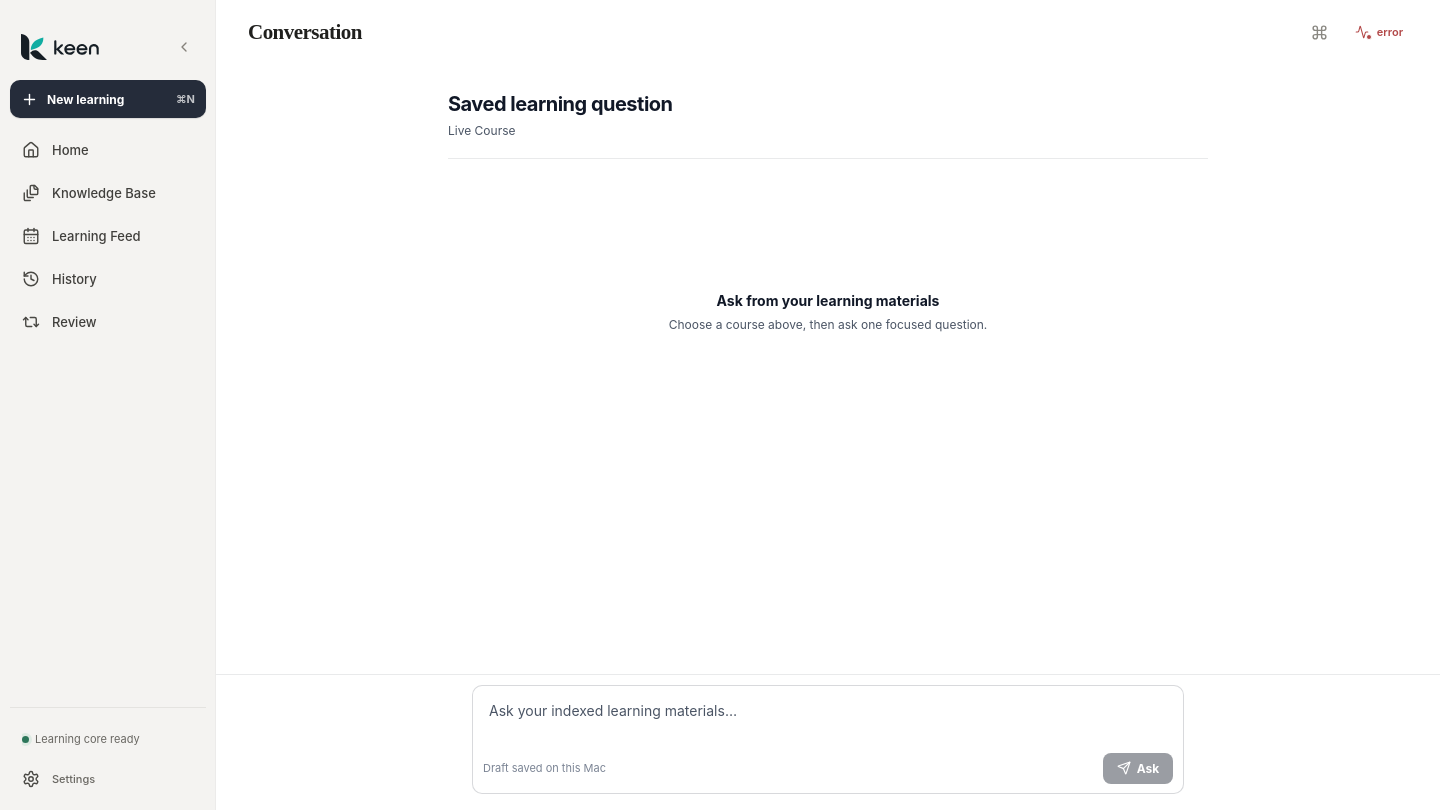
Test: Conversation local RAG integration › blocks new execution after an unknown outcome and reloads only authoritative state
Expected: the text named "Conversation course scope" is shown, [448,122,516,140]
In the text box named "Reply": (828, 721) [483,695,1173,748], type "Unknown outcome"
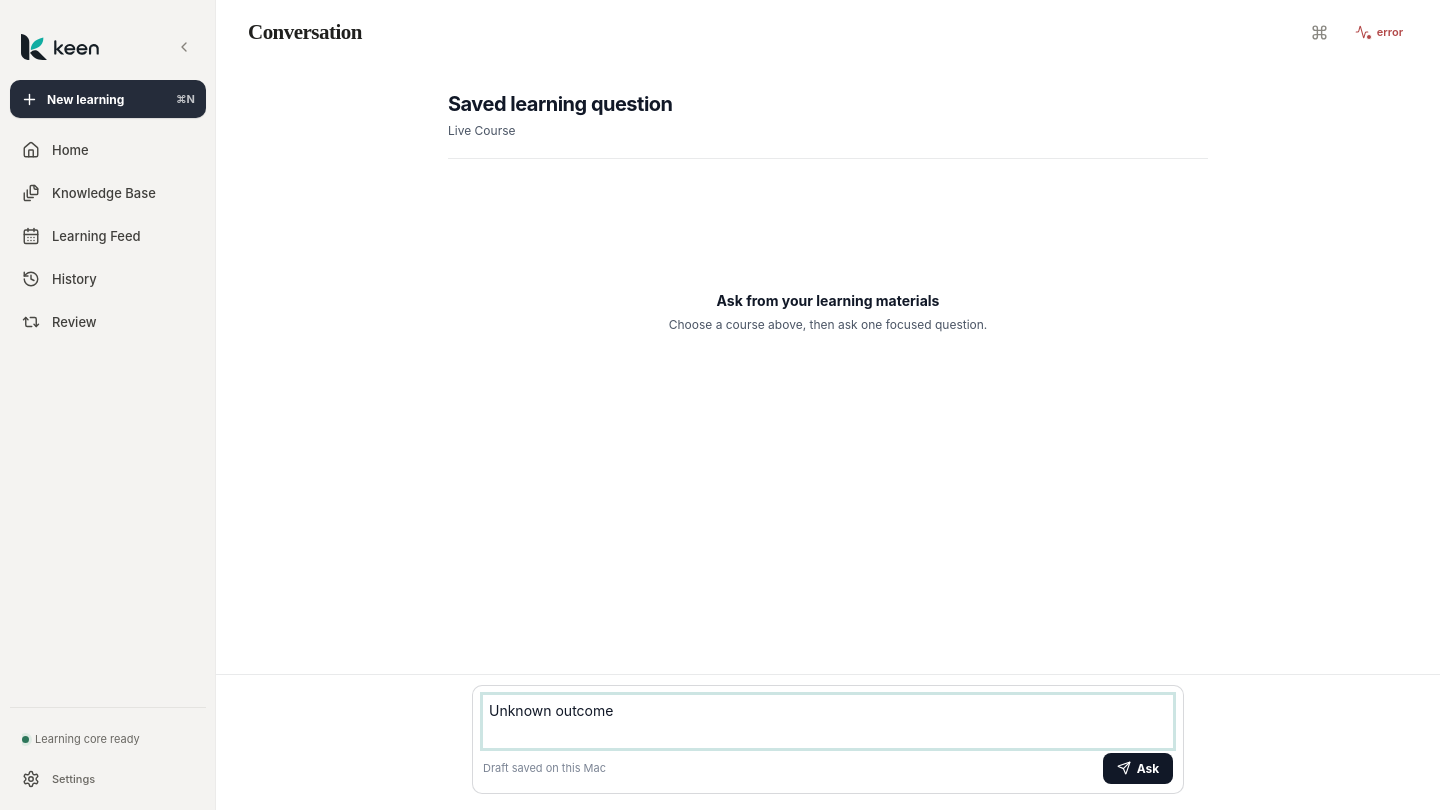
Click the button with aria-label "Ask question": (1138, 768) [1103,752,1173,784]
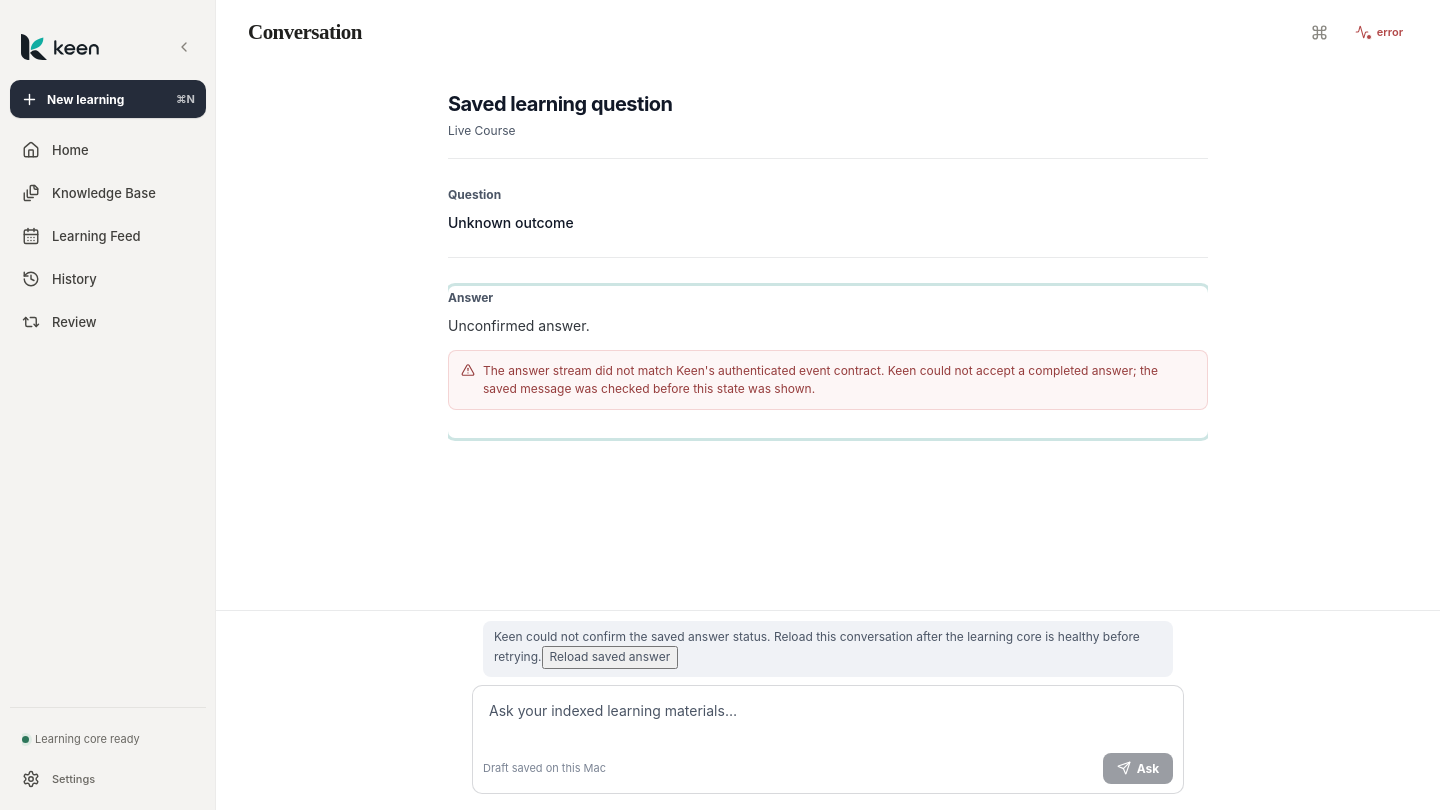
Expected: the button "Reuse question" is not shown
Expected: the text "could not confirm the saved answer status" is shown, [494,629,1140,664]
Expected: the text box named "Reply" is disabled, [483,695,1173,748]
Click the button "Reload saved answer": (610, 657) [542,646,678,669]
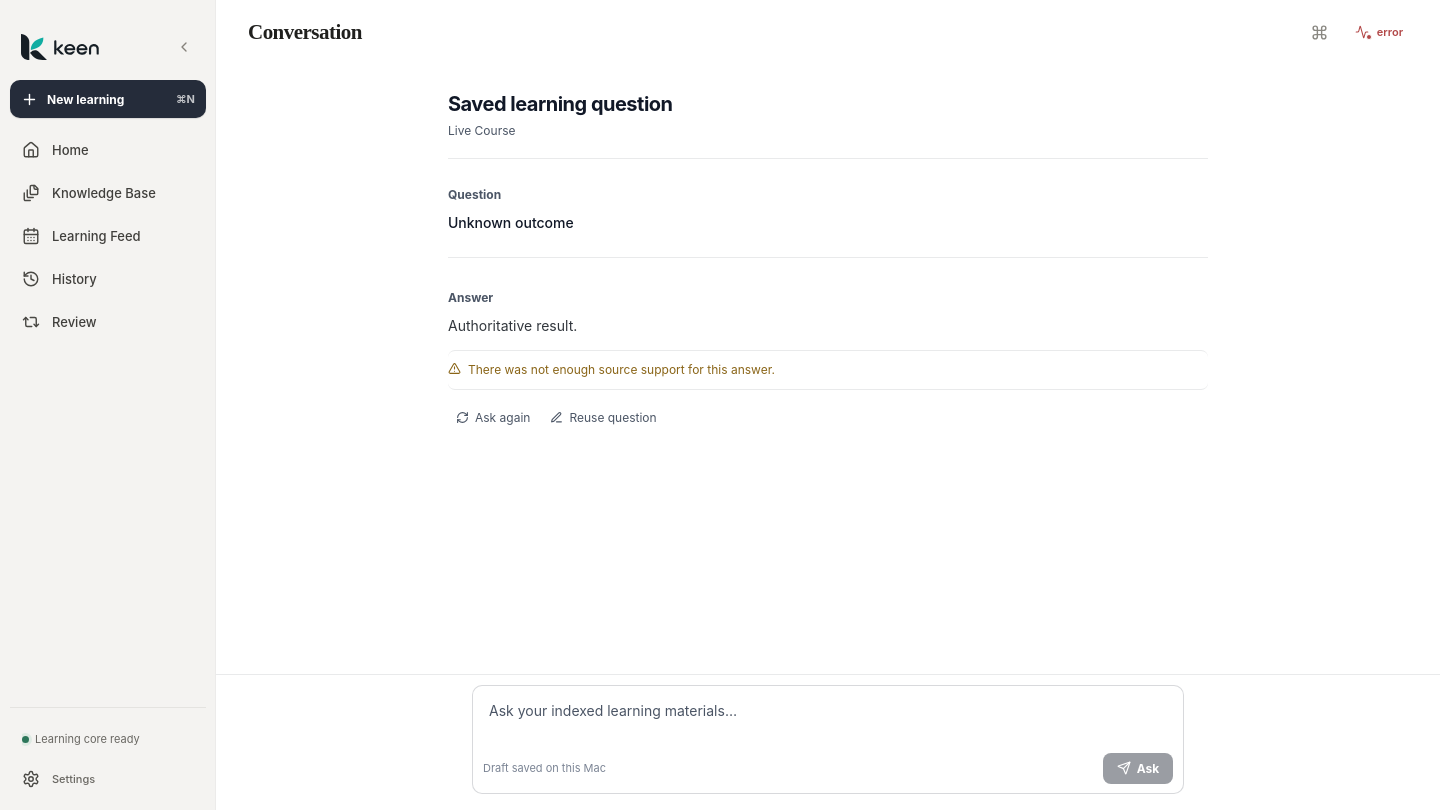
Expected: the text "Authoritative result." is shown, [448,317,577,334]
